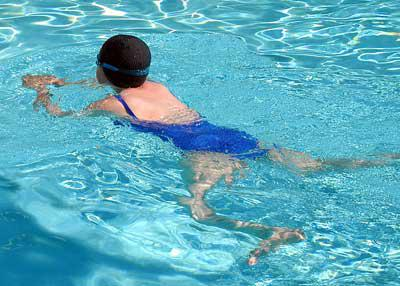swimmer: (21, 32, 304, 250)
